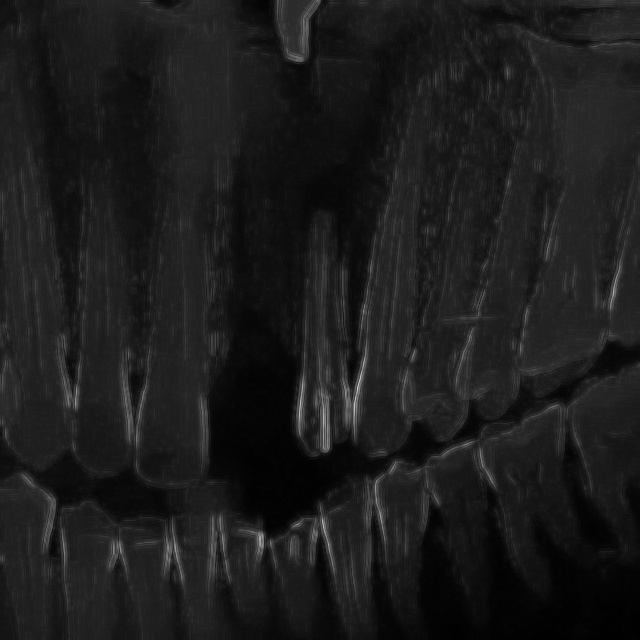Class 1- complete endodontic treatment: (268, 142, 366, 461)
